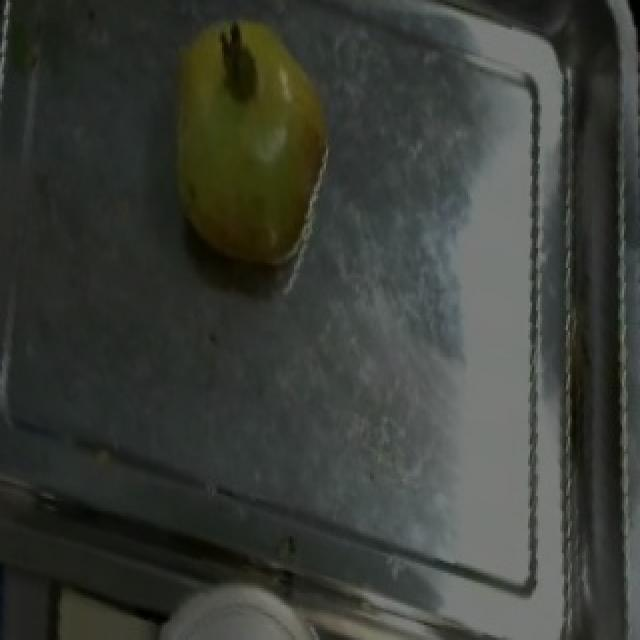fruit: (126, 528, 350, 640)
